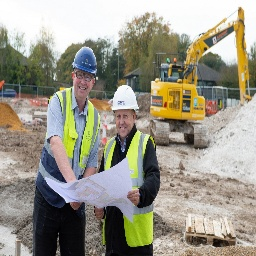helmet: (111, 83, 141, 118), (69, 46, 100, 78)
person: (34, 44, 103, 256), (100, 84, 162, 256)
vest: (106, 133, 157, 245), (62, 89, 97, 181)
